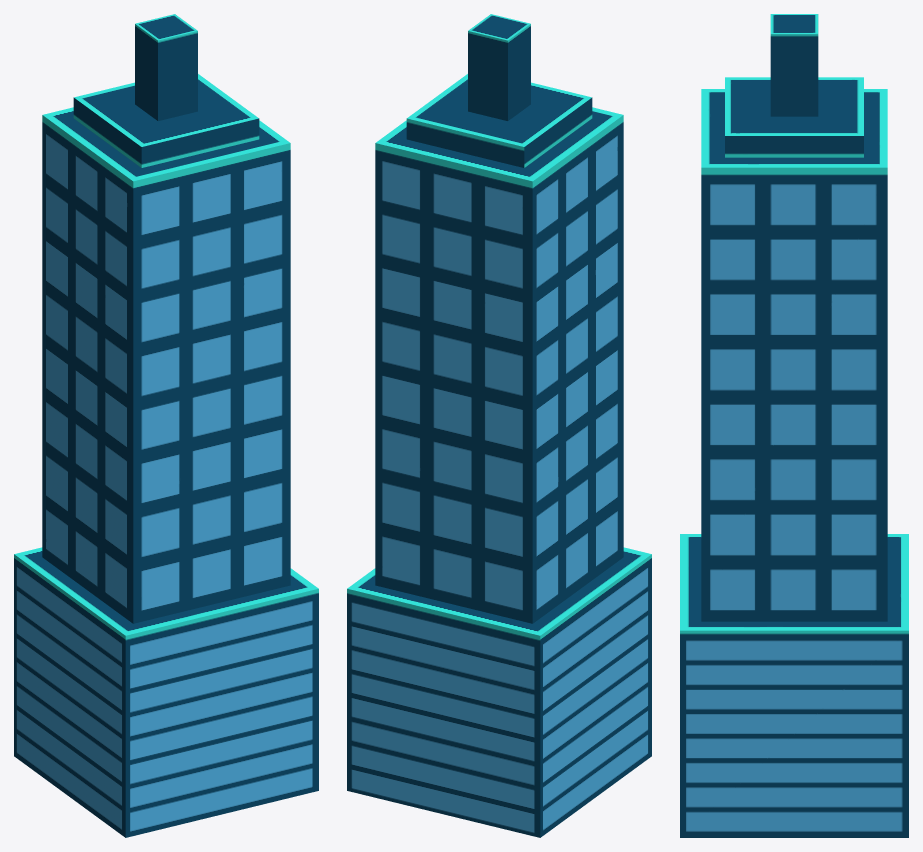
The model's file is building set 2_08.fbx.
3 renders of one model, left to right at view 1: azimuth 30°, elevation 25°; view 2: azimuth 150°, elevation 25°; view 3: azimuth 270°, elevation 25°, orthographic. The views are drawn at different scales.
Parts seen in each view (by area): view 1: pCube9; view 2: pCube9; view 3: pCube9.
Boxes of the visible parts, <box> form: pCube9: <box>14,14,318,837</box>; pCube9: <box>347,14,651,837</box>; pCube9: <box>680,14,908,837</box>.
Size of the model in its own units: 2.7 by 9.97 by 2.7.
